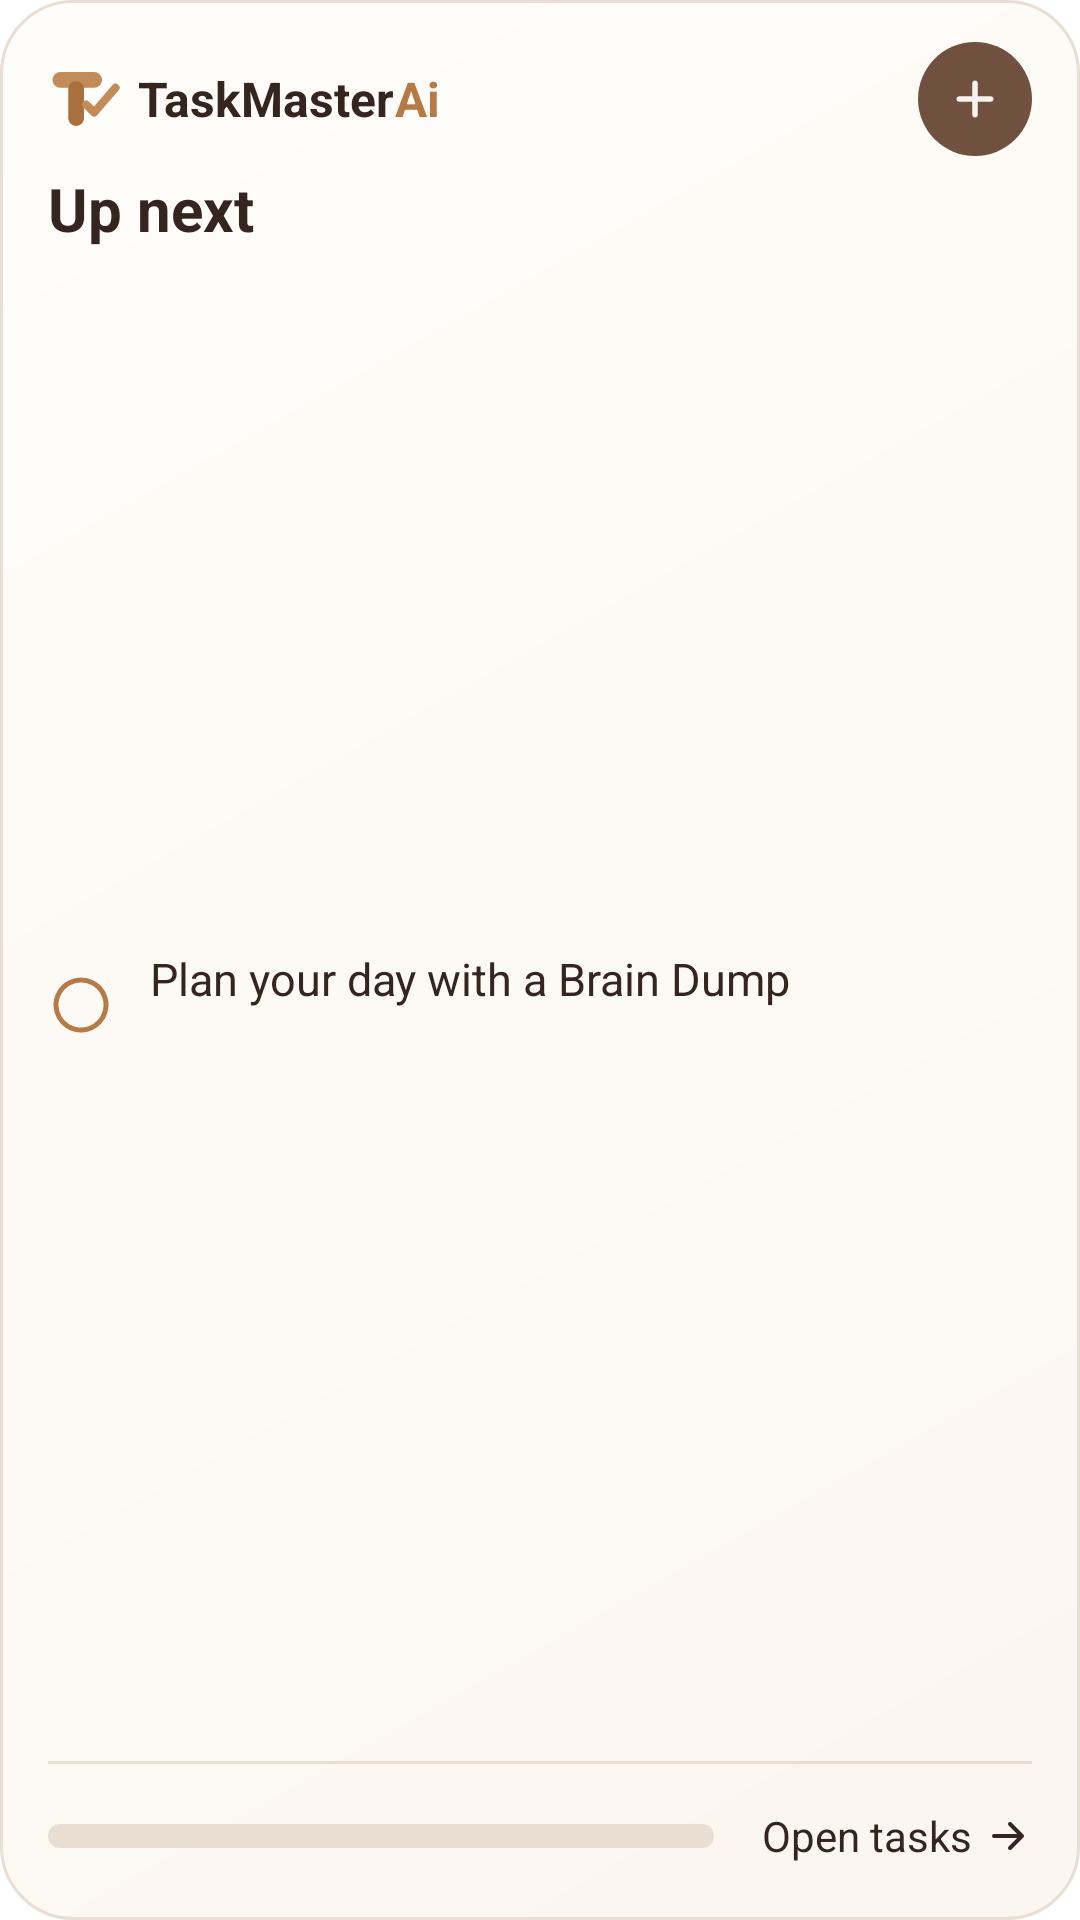

Locate icon controls on the screen. Image size 1080 × 1920, boxes as (x1, y1, x2, y2).
widget arrow: (992, 1822, 1024, 1850)
widget mark: (52, 72, 120, 126)
widget plus: (956, 80, 994, 118)
widget ring: (53, 977, 109, 1033)
